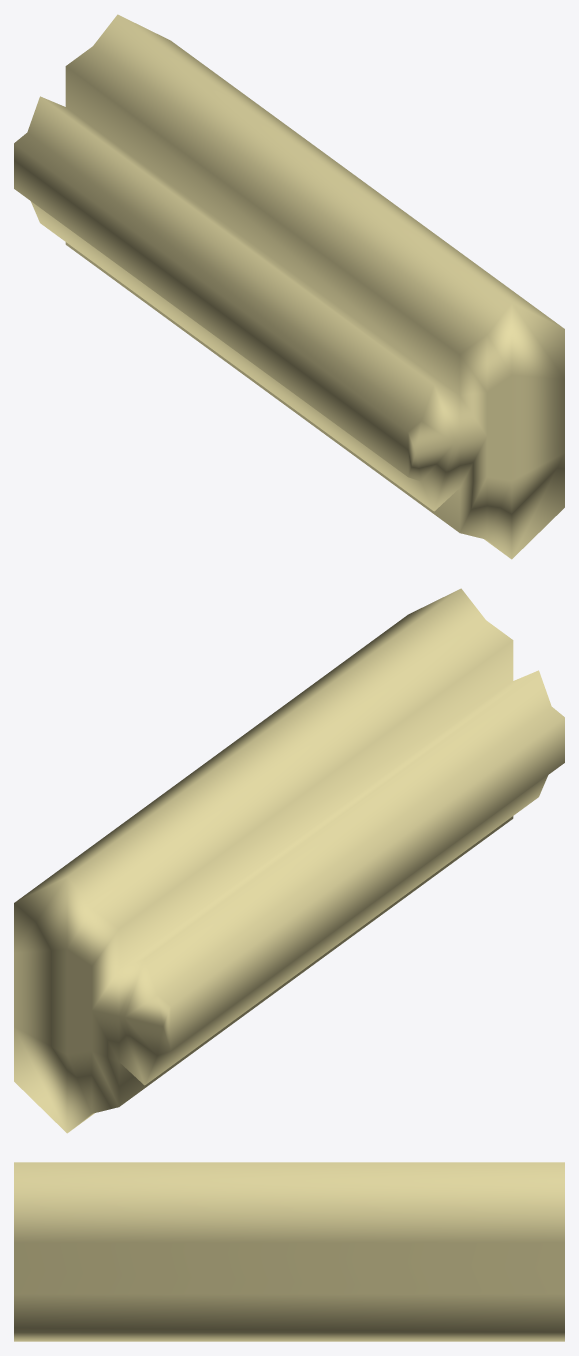
File: Wall_Orn_05_x1.fbx
3 renders of one model, top to bottom at view 1: azimuth 30°, elevation 25°; view 2: azimuth 150°, elevation 25°; view 3: azimuth 270°, elevation 25°, orthographic. The views are drawn at different scales.
Visible parts, largest first — view 1: Wall_Orn_05_x1; view 2: Wall_Orn_05_x1; view 3: Wall_Orn_05_x1.
Part boxes in pixels (bbox=[...]): Wall_Orn_05_x1: bbox=[14, 14, 564, 559]; Wall_Orn_05_x1: bbox=[14, 588, 564, 1133]; Wall_Orn_05_x1: bbox=[14, 1162, 564, 1341].
Bounding box in the file's own units: 34.45 × 53.89 × 150.
